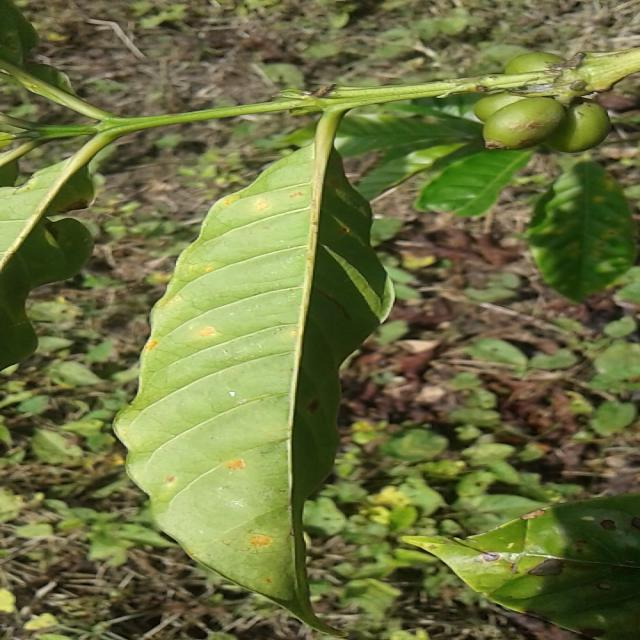Enfermedad-Roya: (114, 110, 392, 632)
